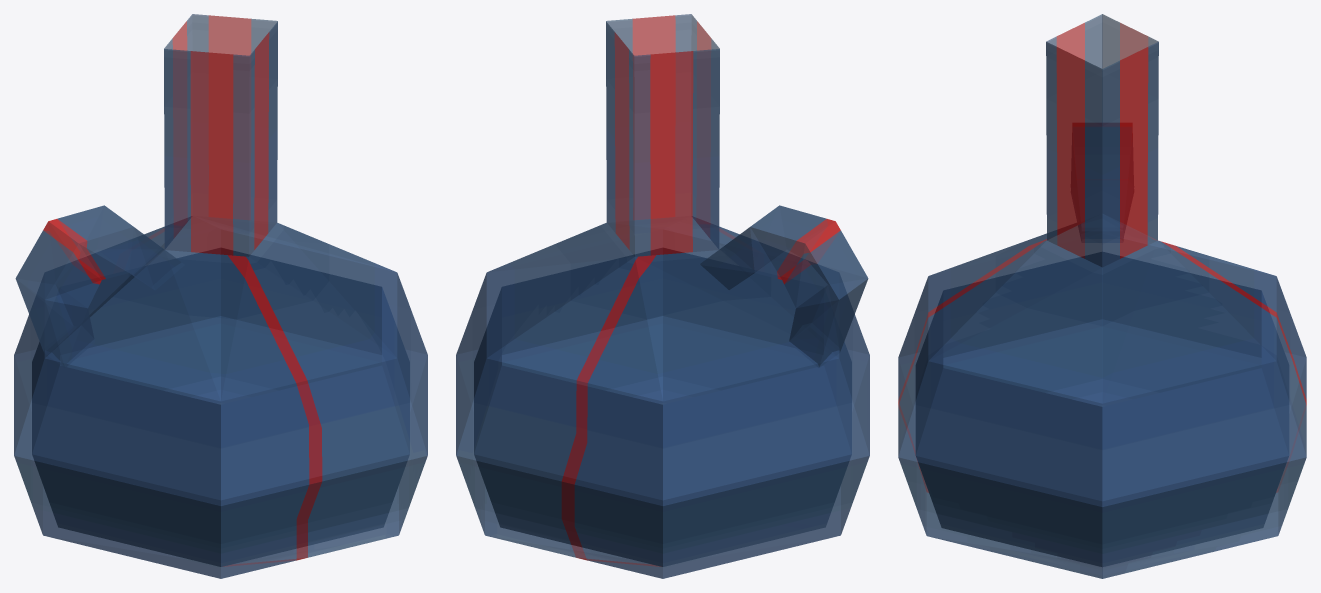
The picture shows the model from 3 angles, left to right: view 1: azimuth 30°, elevation 25°; view 2: azimuth 150°, elevation 25°; view 3: azimuth 270°, elevation 25°; orthographic projection.
Visible parts, largest first — view 1: 1081item552; view 2: 1081item552; view 3: 1081item552.
Boxes of the visible parts, box(x1,y1,x2,y2) form: 1081item552: box(14, 14, 427, 578); 1081item552: box(456, 14, 869, 578); 1081item552: box(898, 14, 1306, 578).
Bounding box in the file's own units: 0.5518 × 0.6755 × 0.4775.
2 materials, 2 textured.
